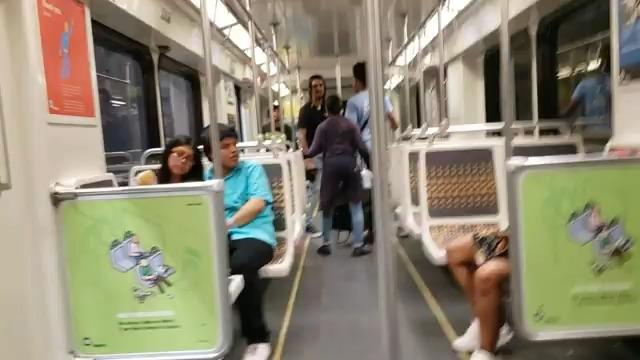non-violence: (207, 123, 276, 360), (297, 95, 374, 257), (344, 60, 398, 242), (446, 226, 512, 360), (296, 74, 327, 237), (137, 139, 204, 187), (263, 106, 293, 150)
